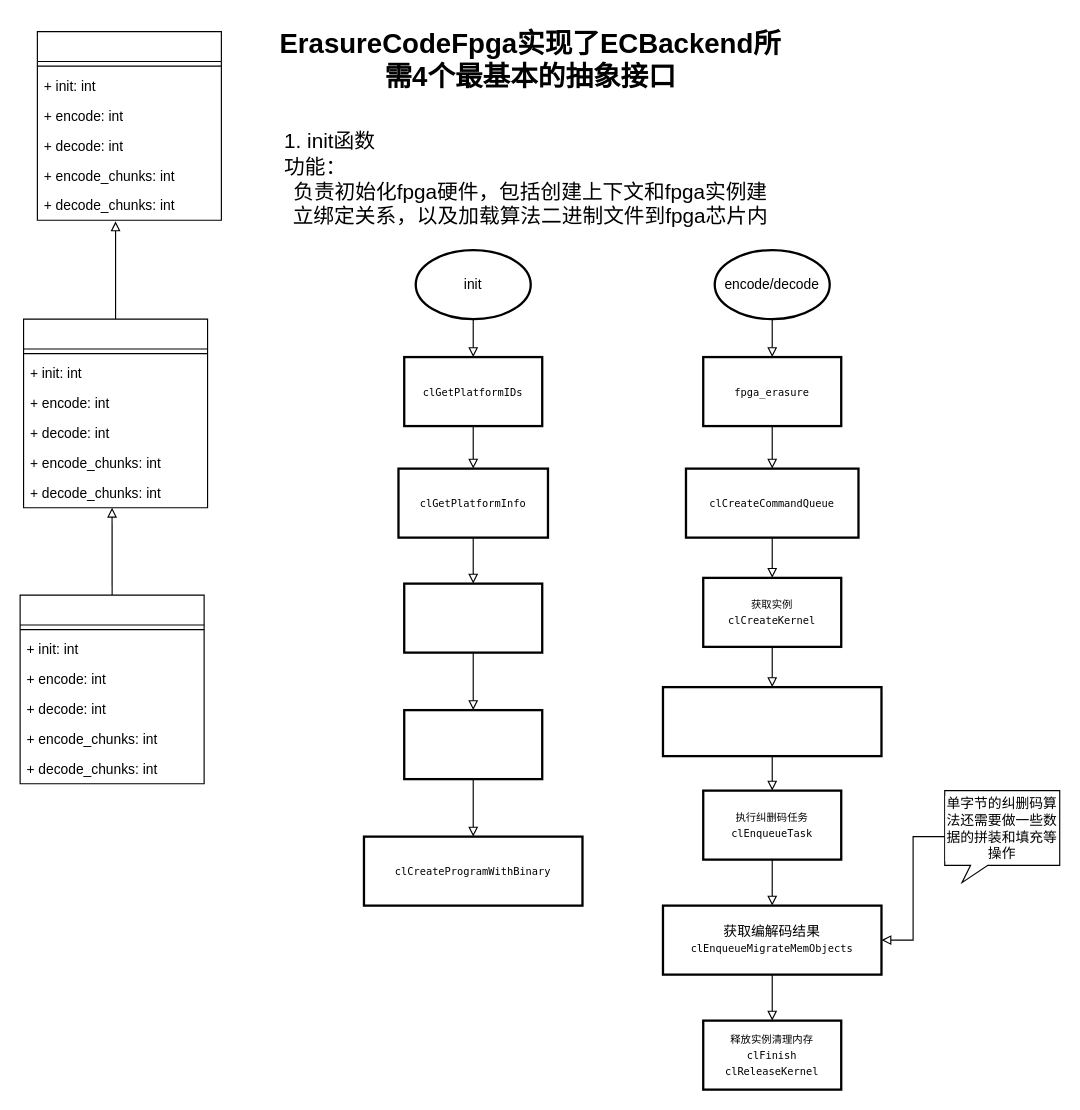
Image size: 1080x1110. Some labels were removed from this diagram. Here are the shapes that lost their labels. From the top down, the box of each, then its label:
(36, 30, 221, 220): ErasureCodeInterface
(22, 318, 208, 508): ErasureCodeJerasure
(402, 582, 543, 653): clGetDeviceIDs
(19, 594, 204, 784): ErasureCodeFpga
(661, 685, 882, 757): 准备参数 clCreateBuffer clSetKernelArg clEnqueueMigrateMemObjects
(402, 708, 543, 780): clGetDeviceInfo
